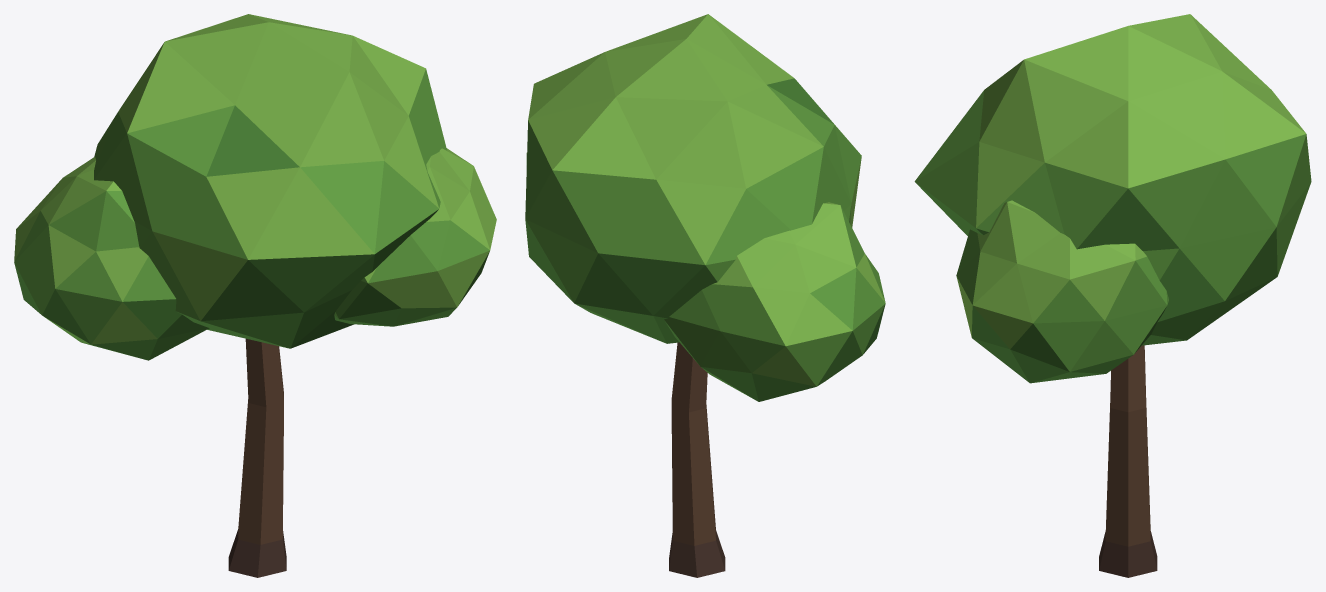
File: tree_oak.glb
3 views of the same model, side by side, from view 1: azimuth 30°, elevation 25°; view 2: azimuth 150°, elevation 25°; view 3: azimuth 270°, elevation 25° (orthographic). The views are drawn at different scales.
Parts seen in each view (by area): view 1: tree_oak; view 2: tree_oak; view 3: tree_oak.
Part boxes in pixels (left/top/right/bottom): tree_oak: left=14, top=14, right=496, bottom=577; tree_oak: left=525, top=14, right=885, bottom=577; tree_oak: left=914, top=14, right=1311, bottom=577.
Bounding box in the file's own units: 3.54 × 4.63 × 3.06.
Materials: 1 (1 with a texture image).
